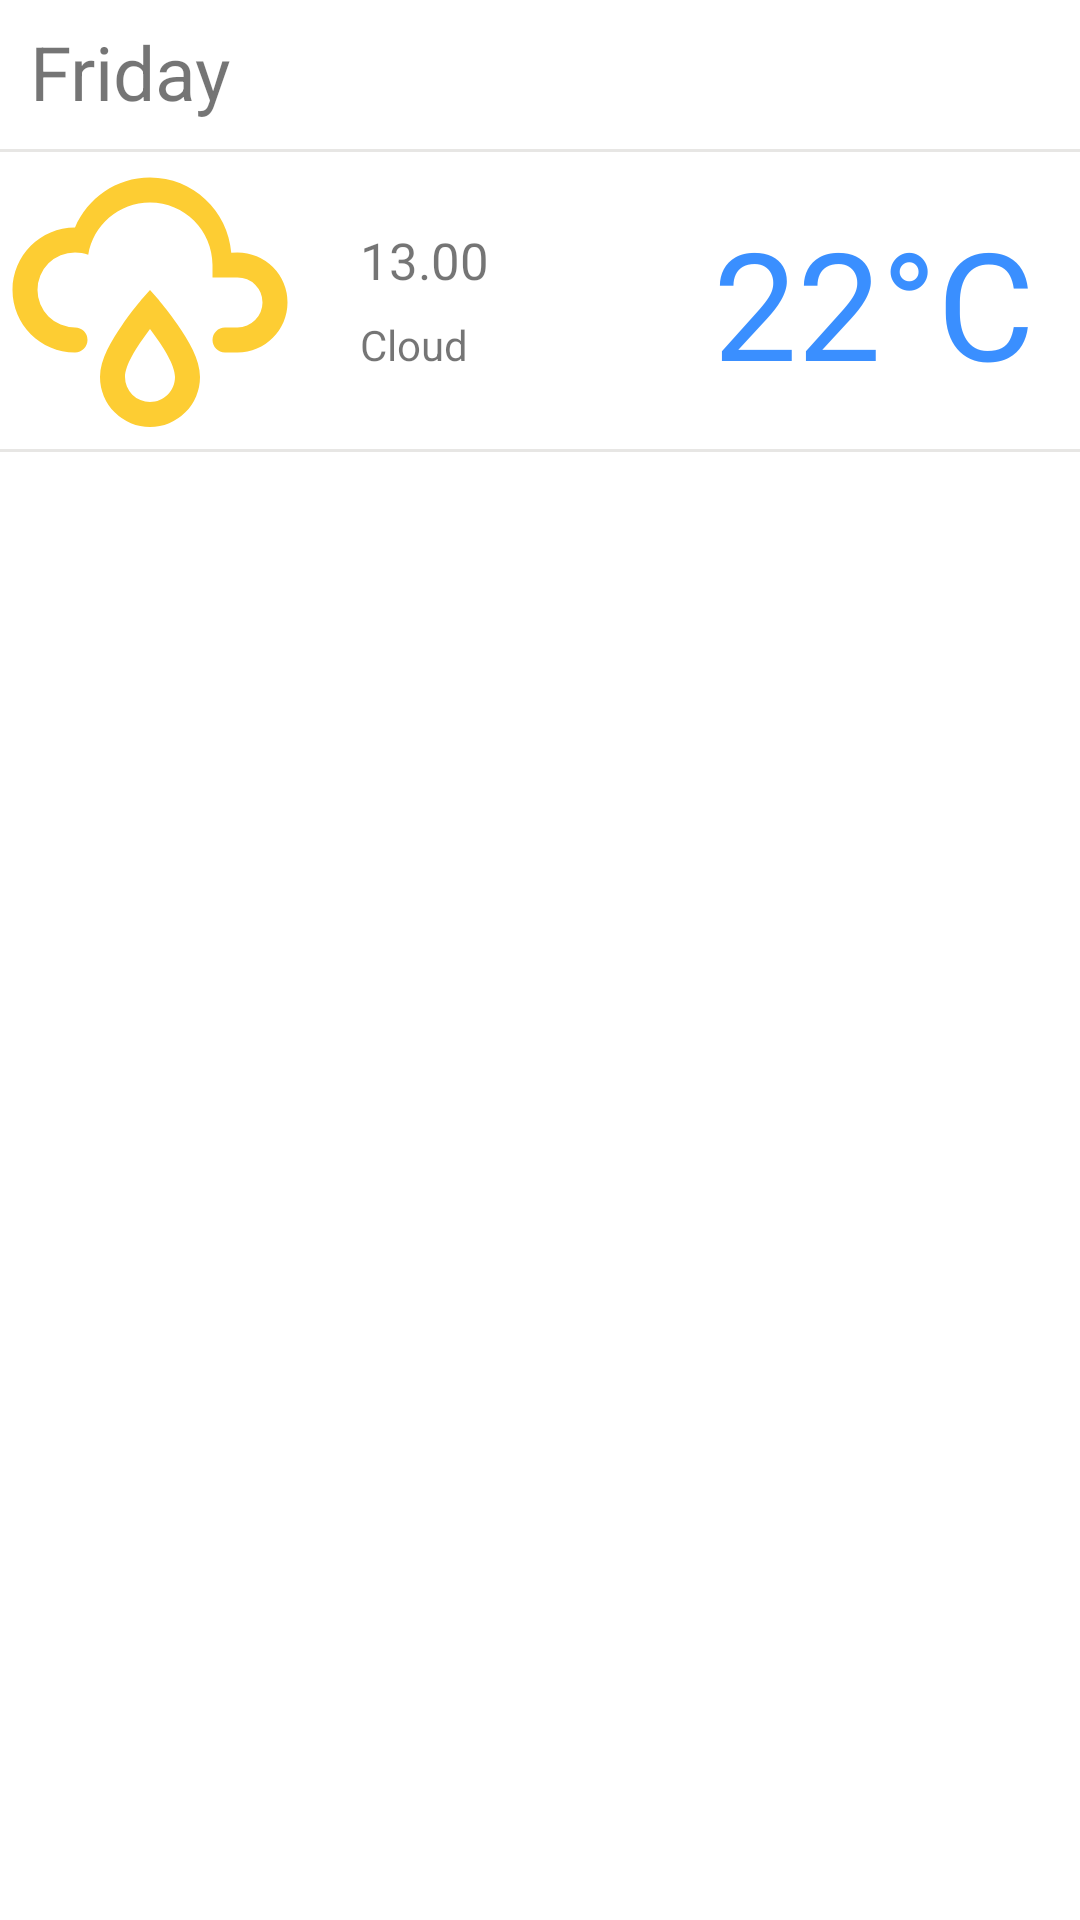

Screen size 1080x1920. Icon name, then its center in pixels as [x,y]:
weather rainy: [150,302]
